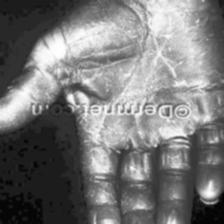Non-Cancerous Skin Condition: (86, 123, 224, 224), (106, 0, 210, 84)
